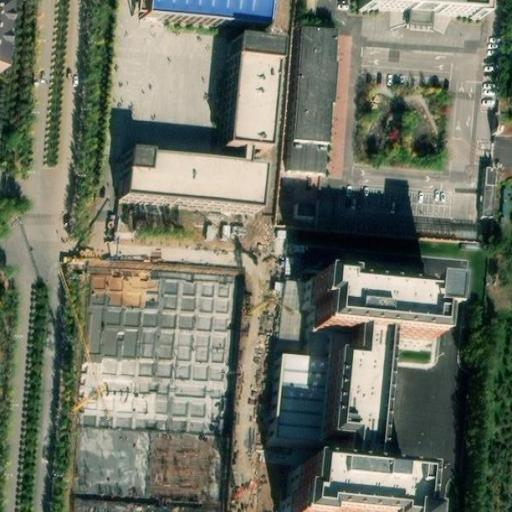building: (120, 43, 272, 210), (325, 337, 389, 478), (305, 279, 439, 343), (289, 27, 339, 171), (282, 470, 410, 512), (276, 350, 332, 437), (138, 0, 273, 28), (365, 0, 494, 17), (482, 168, 496, 215), (407, 10, 435, 28)
